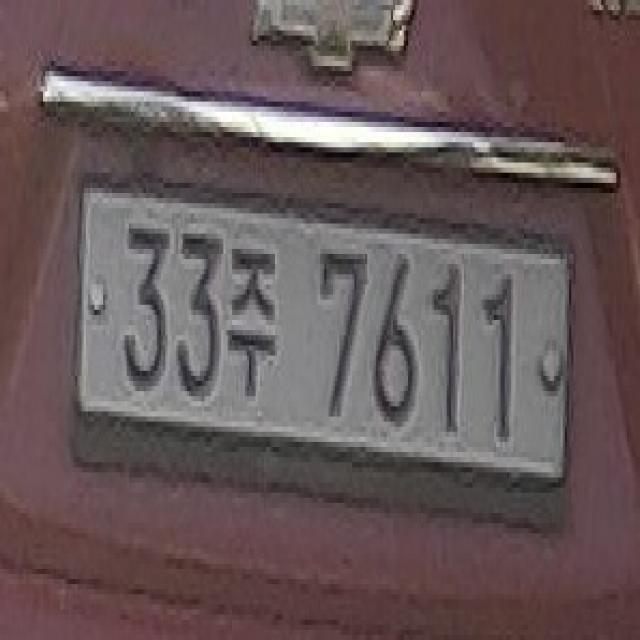1: (429, 259, 464, 442), (484, 264, 516, 437)
3: (122, 218, 174, 406), (170, 218, 223, 402)
6: (369, 249, 421, 432)
7: (318, 244, 369, 422)
ju: (223, 239, 280, 406)
license_plate: (75, 173, 571, 508)
